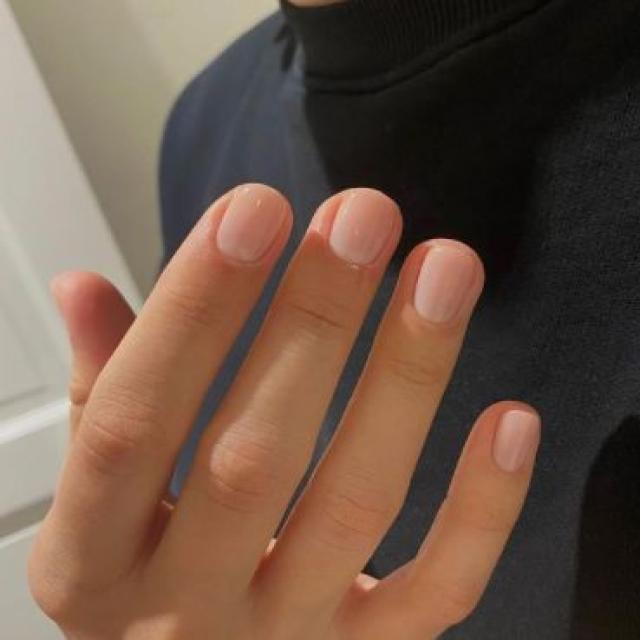Fingernail: (216, 188, 285, 263), (413, 246, 476, 323), (329, 192, 394, 264), (493, 410, 538, 472)
